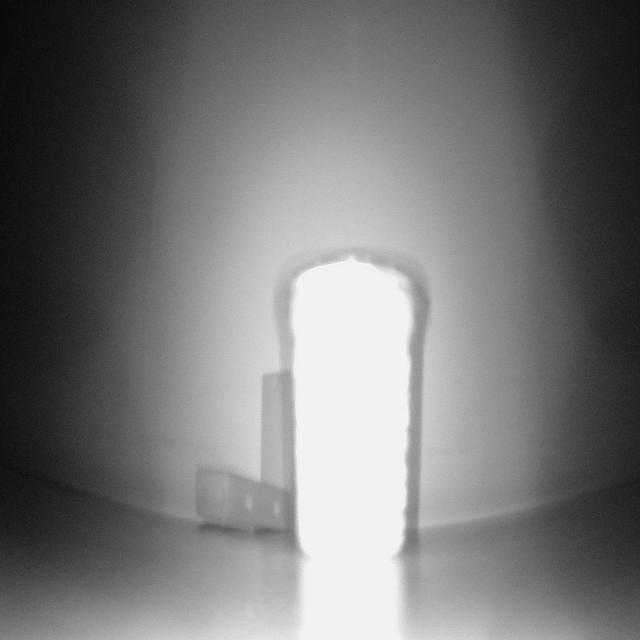targets: (297, 254, 421, 566), (195, 369, 292, 547)
